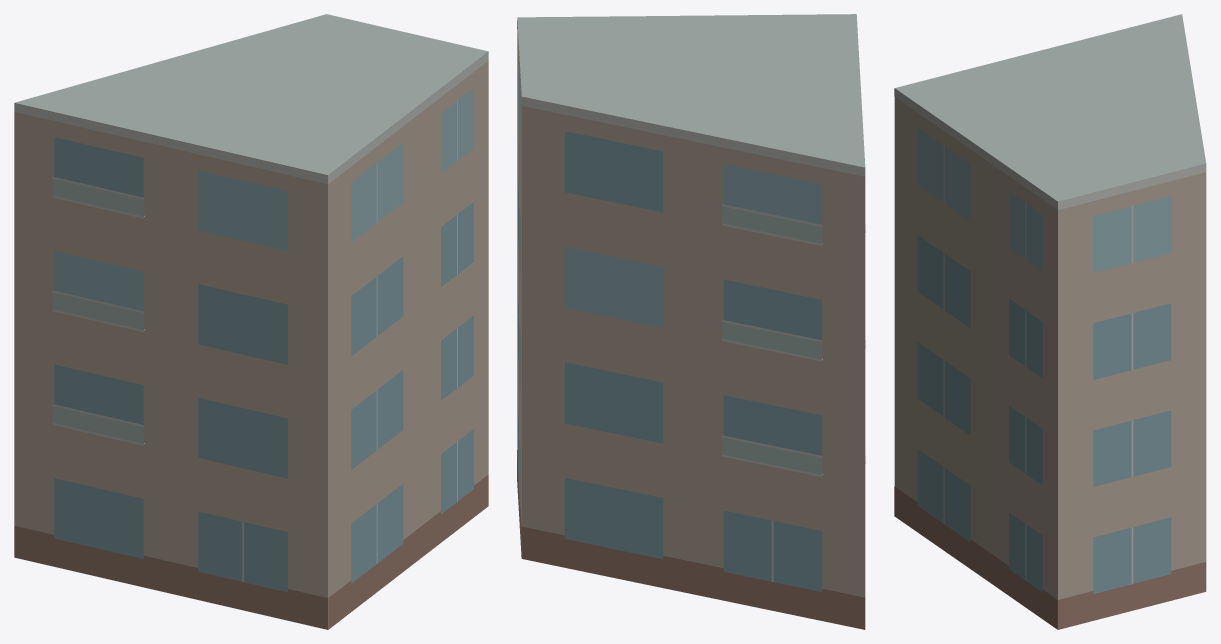
Rendered from residential-8ac2ee3b-4c99-4b20-b4c7-faddb7ddcdc5.glb.
3 renders of one model, left to right at view 1: azimuth 30°, elevation 25°; view 2: azimuth 150°, elevation 25°; view 3: azimuth 270°, elevation 25°, orthographic. The views are drawn at different scales.
Parts seen in each view (by area): view 1: residential-8ac2ee3b-4c99-4b20-b4c7-faddb7ddcdc5.tmp; view 2: residential-8ac2ee3b-4c99-4b20-b4c7-faddb7ddcdc5.tmp; view 3: residential-8ac2ee3b-4c99-4b20-b4c7-faddb7ddcdc5.tmp.
Boxes of the visible parts, x1=… form: residential-8ac2ee3b-4c99-4b20-b4c7-faddb7ddcdc5.tmp: x1=14, y1=14, x2=488, y2=629; residential-8ac2ee3b-4c99-4b20-b4c7-faddb7ddcdc5.tmp: x1=517, y1=14, x2=865, y2=629; residential-8ac2ee3b-4c99-4b20-b4c7-faddb7ddcdc5.tmp: x1=894, y1=14, x2=1206, y2=629.
Size of the model in its own units: 11.48 by 12.2 by 8.06.
